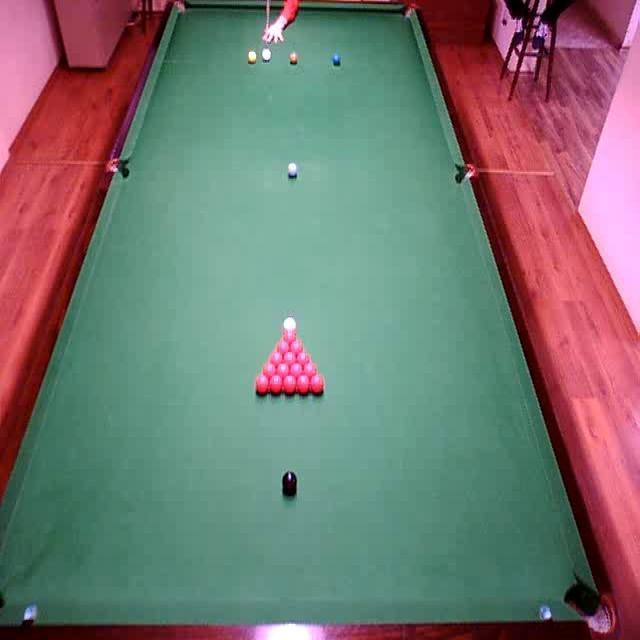Ball: (282, 471, 298, 493), (255, 375, 269, 396), (297, 375, 310, 396), (311, 376, 325, 395), (270, 376, 283, 396), (283, 375, 296, 395), (283, 316, 297, 331), (290, 362, 304, 377), (268, 350, 283, 364), (288, 162, 299, 181), (263, 361, 276, 377), (276, 363, 290, 376), (284, 350, 297, 364), (298, 351, 311, 365), (304, 363, 317, 376), (291, 339, 304, 352), (283, 329, 296, 342), (331, 52, 342, 66), (289, 51, 298, 65), (262, 49, 272, 61), (277, 341, 289, 351), (249, 51, 256, 65)
